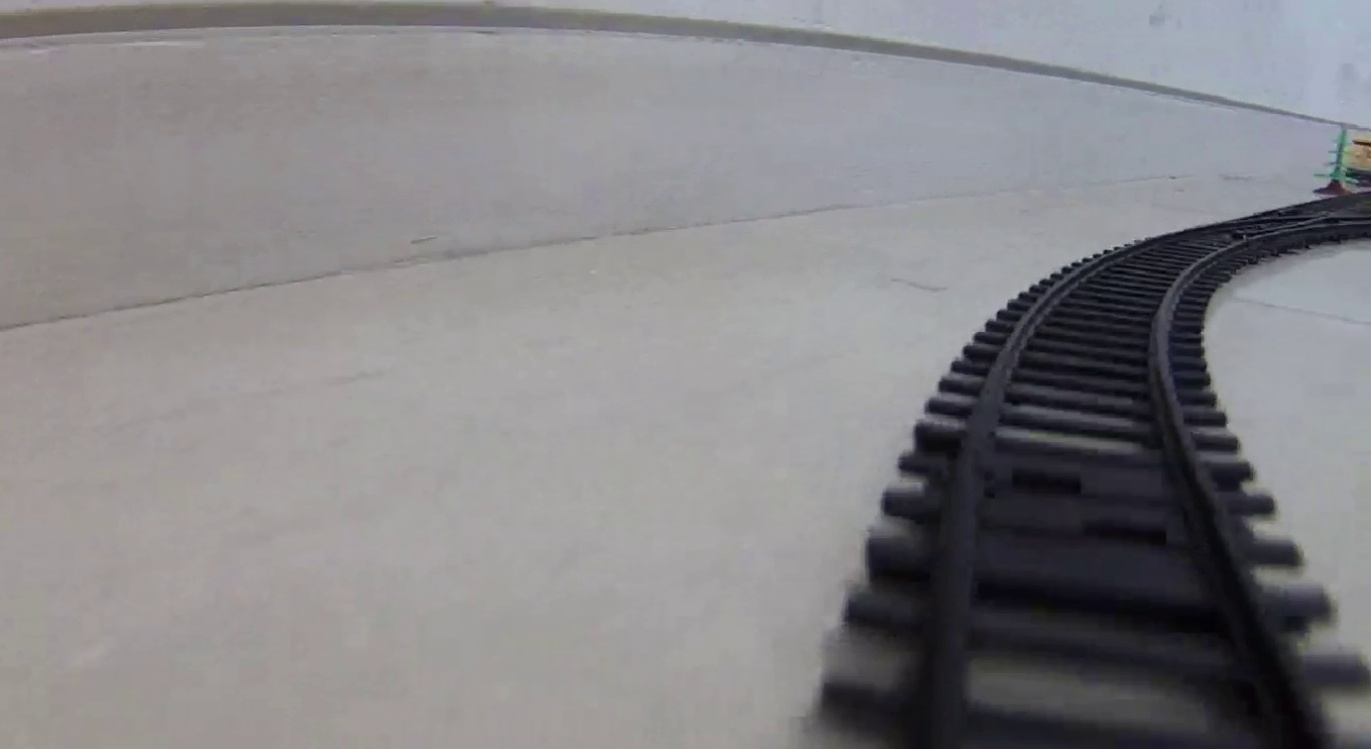tree: (1314, 125, 1356, 195)
